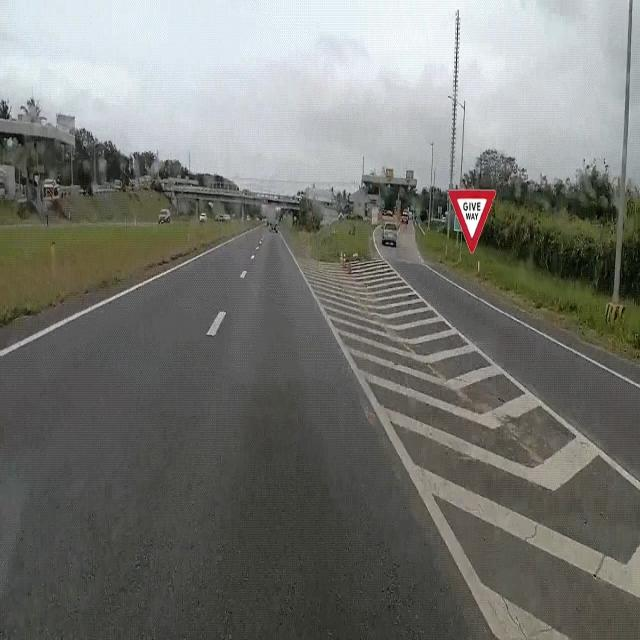Ceder-le-Passage: (446, 178, 498, 268)
